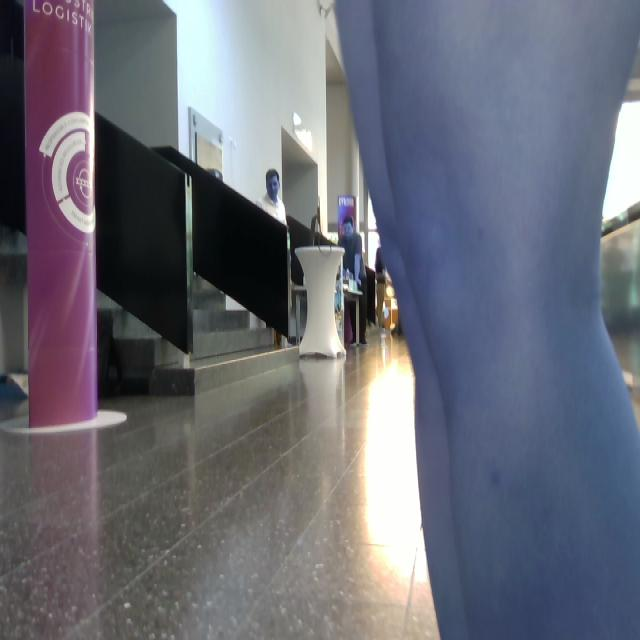door: (186, 106, 276, 360)
person: (338, 216, 369, 346)
pillar: (23, 1, 99, 428)
table: (293, 244, 350, 364)
tiled floor: (1, 323, 441, 639)
